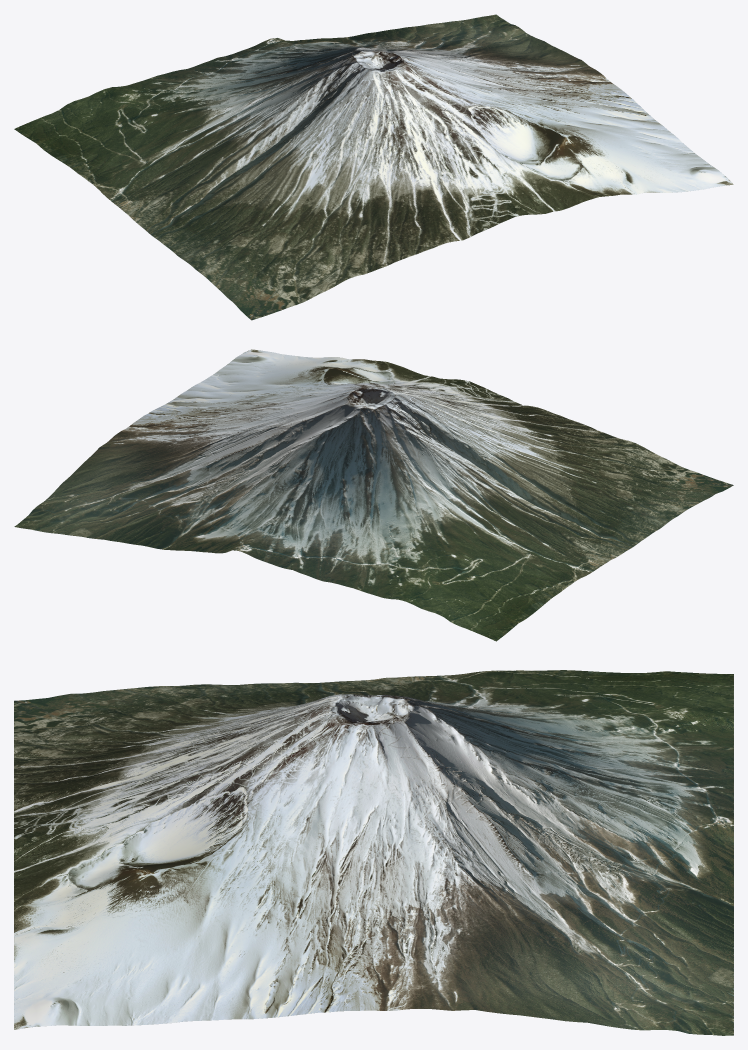
Rendered from mountfuji.glb.
3 renders of one model, top to bottom at view 1: azimuth 30°, elevation 25°; view 2: azimuth 150°, elevation 25°; view 3: azimuth 270°, elevation 25°, orthographic. The views are drawn at different scales.
Parts seen in each view (by area): view 1: Object_2; view 2: Object_2; view 3: Object_2.
Boxes of the visible parts, x1,y1,x2,y2 form: Object_2: [14, 14, 733, 320]; Object_2: [14, 349, 733, 641]; Object_2: [14, 670, 733, 1035].
Size of the model in its own units: 10395 by 2361 by 8867.
Materials: 1 (1 with a texture image).
